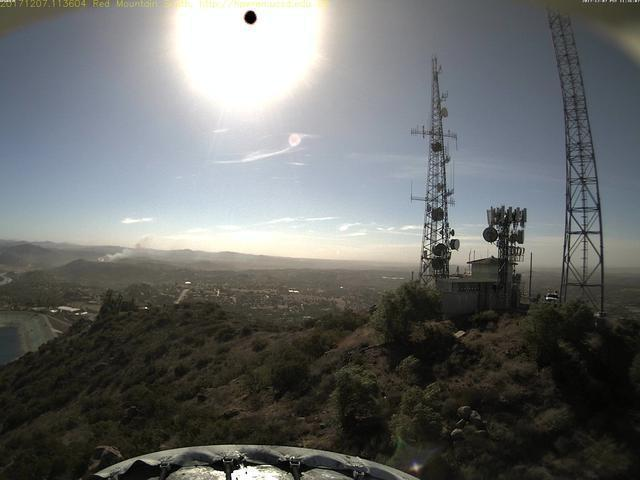Smoke: (87, 230, 164, 265)
